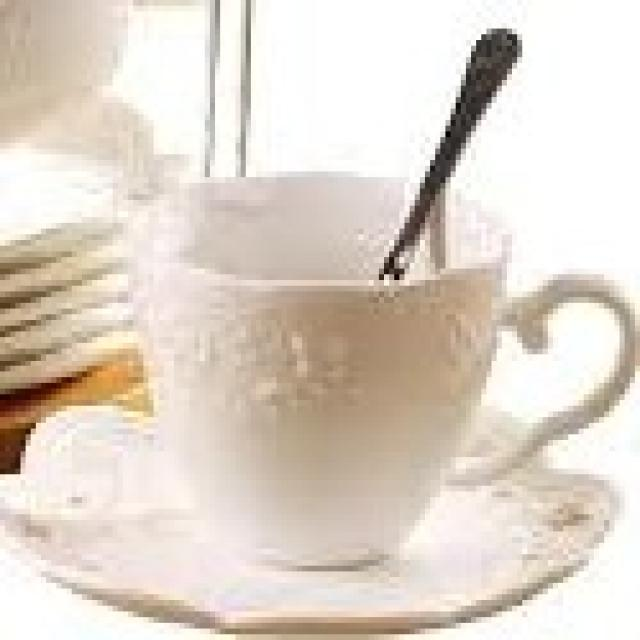taza: (119, 163, 637, 577)
